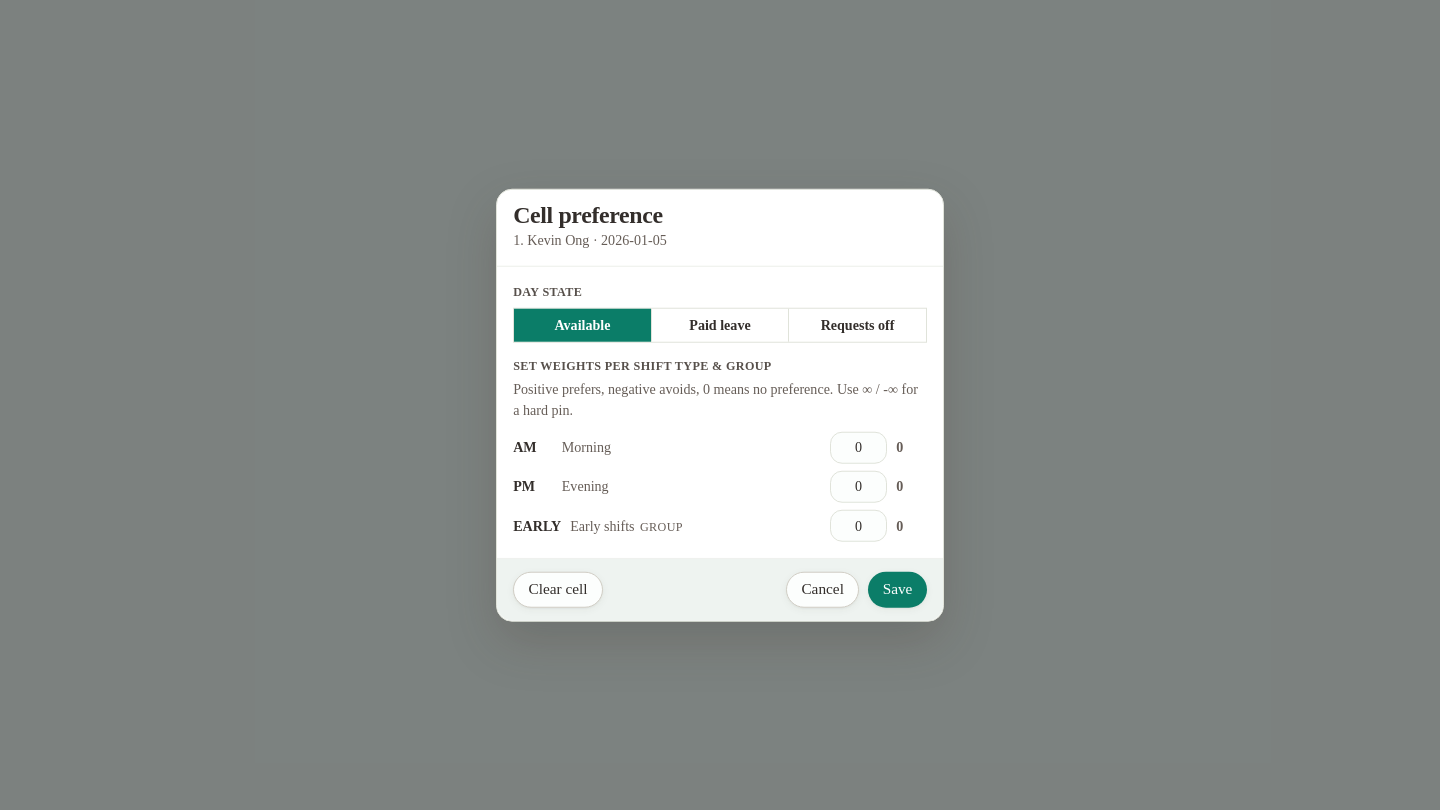
it: CellPreferenceEditor — save (strict XOR, FR-SR-17/21-23) › blocks Save with the verbatim invalid-weight guard when a weight is unparseable
The width and height of the screenshot is (1440, 810).
Type "not-a-number" into the field with test id "cell-editor-weight-input-AM" at (858, 448), box 830,432 -> 887,464
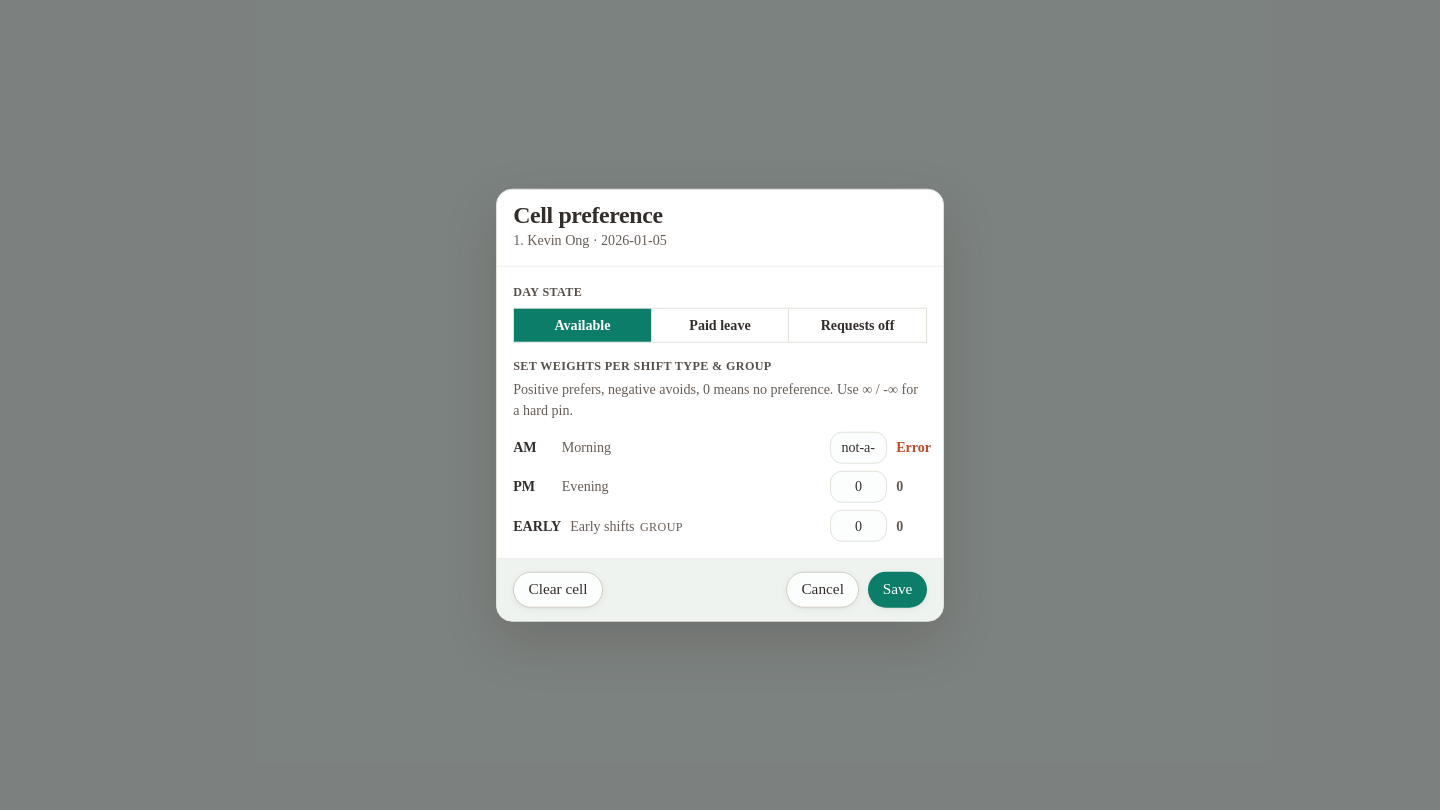
Click the button with test id "cell-editor-save" at (898, 590), box 868,572 -> 927,608
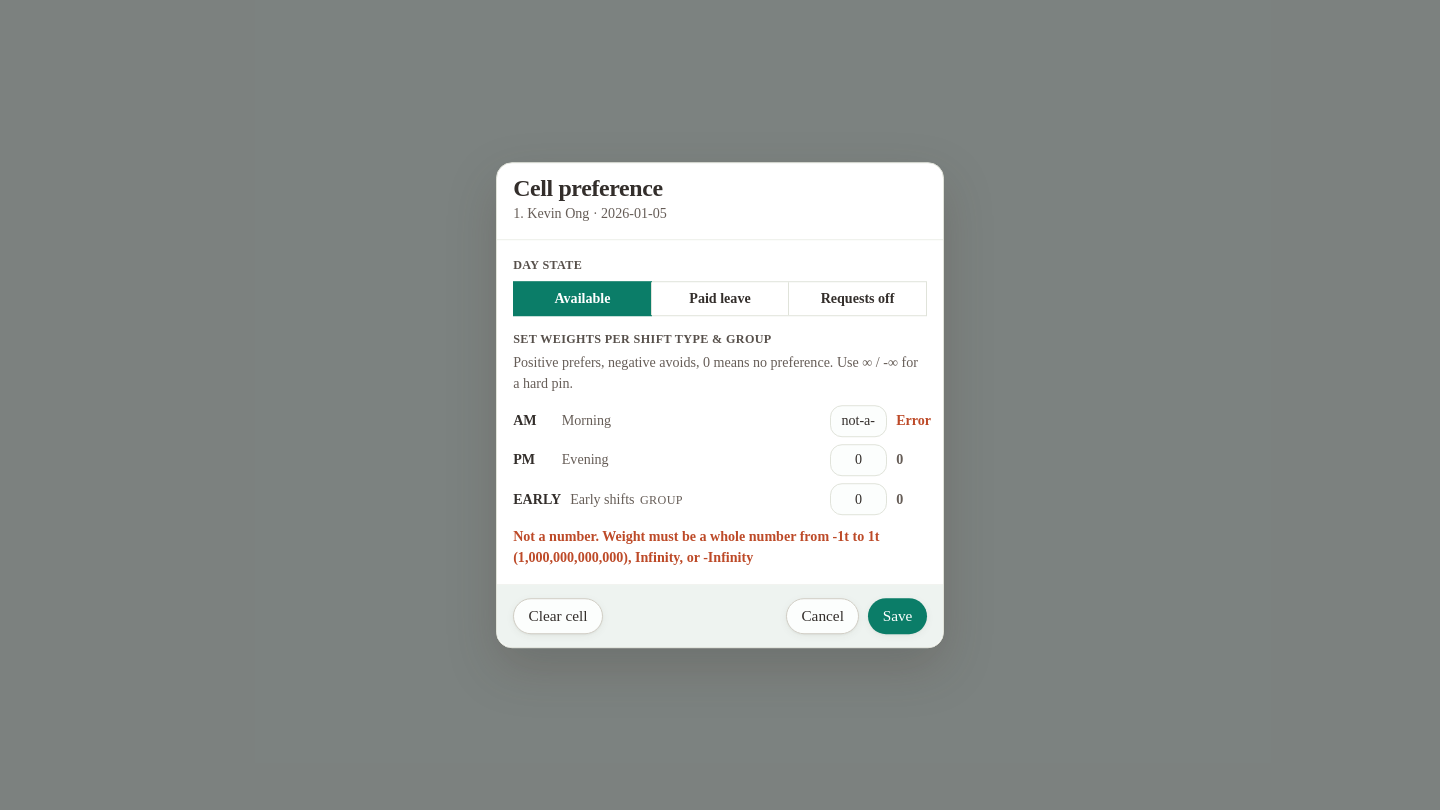
Expected: the message with test id "cell-editor-error" shows "Weight must be a whole number from -1t to 1t (1,000,000,000,000), Infinity, or -Infinity", 513,528 -> 880,565
